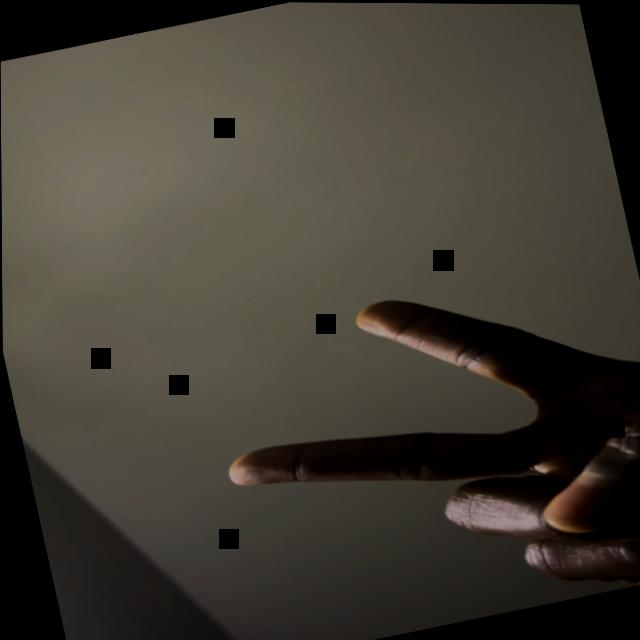Scissors: (196, 246, 640, 640)
